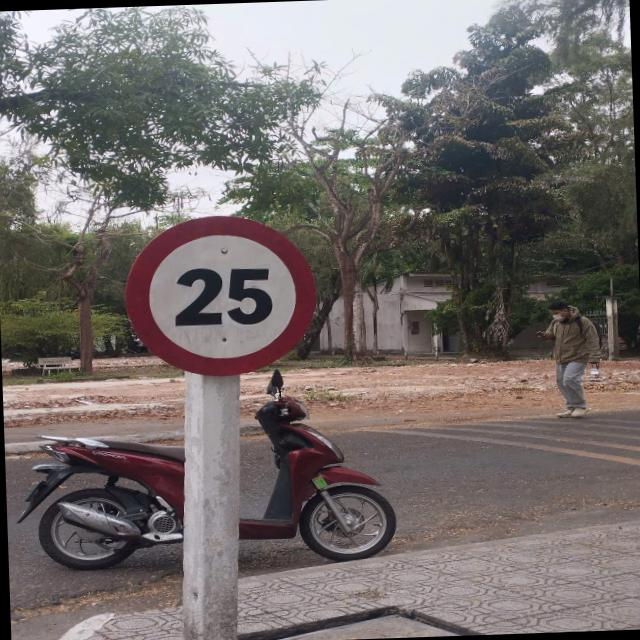Tre_Em: (120, 211, 320, 380)
